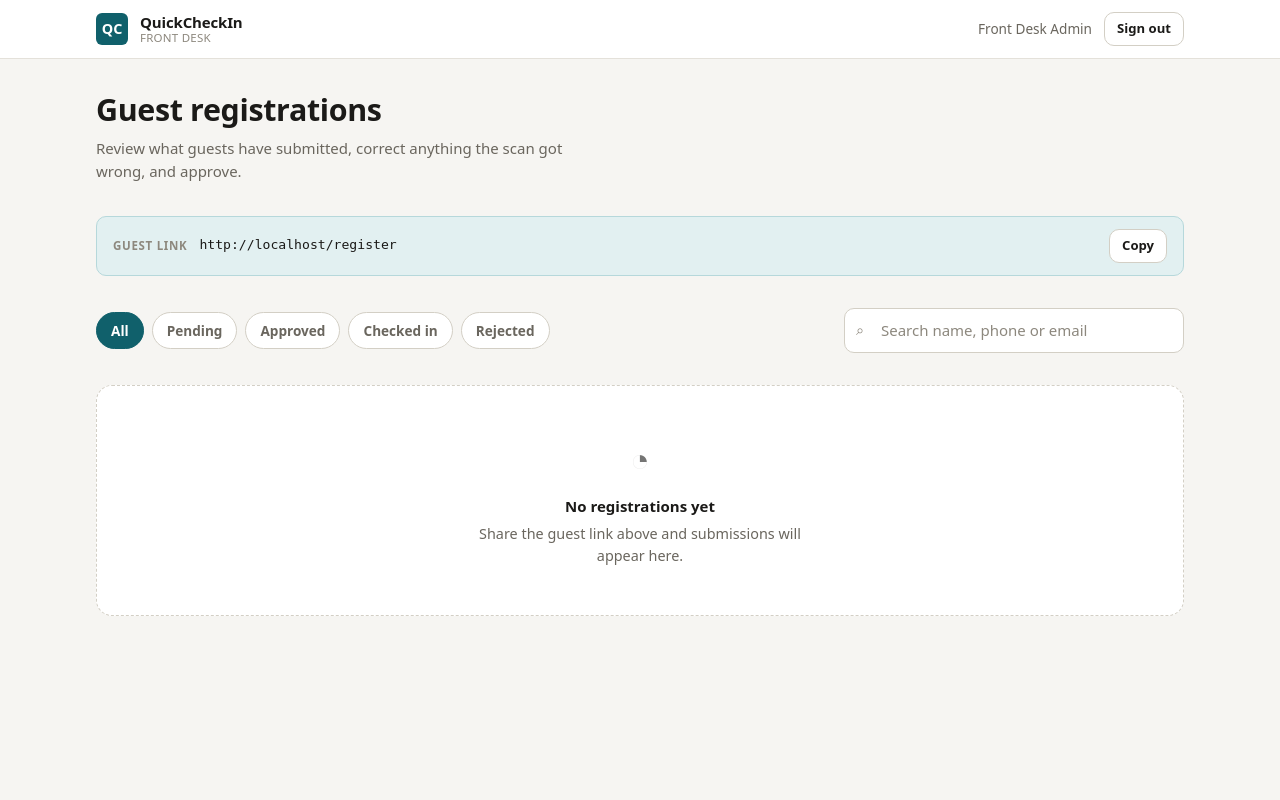
Test: Dashboard › distinguishes an empty filter from an empty database
The width and height of the screenshot is (1280, 800).
Expected: the text "No registrations yet" is shown, [565, 496, 715, 516]
Step 1. Click the button "Rejected" → (505, 330), box [461, 312, 550, 349]
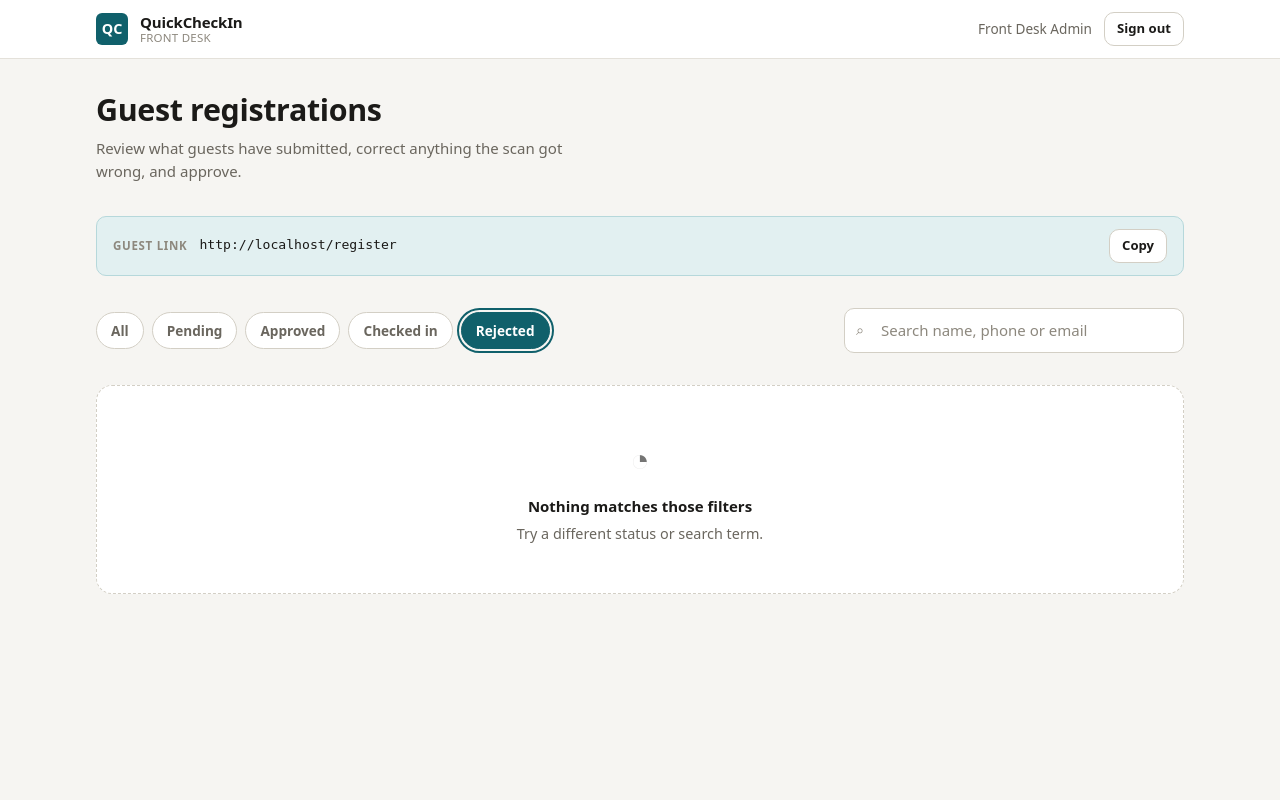
Expected: the text "Nothing matches those filters" is shown, [528, 496, 752, 516]
